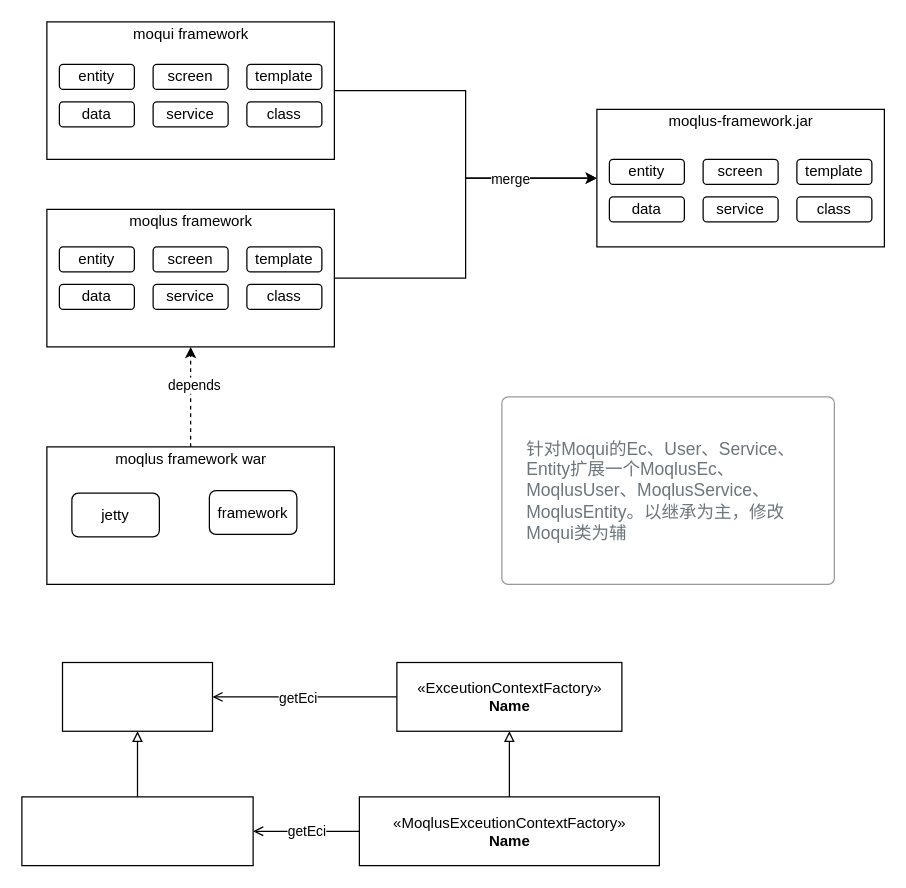
This 906x888 diagram has some shape labels left out. The centre of each missing label's shape, as x and y in pixels:
"«ExceutionContext» Name" belongs at (136,696).
"«MoqlusExceutionContext» Name" belongs at (137,831).
